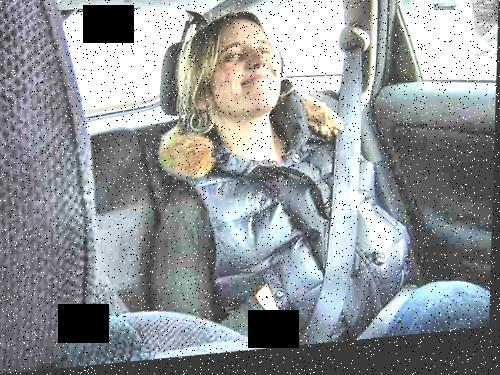seatbelt: (281, 31, 386, 337)
